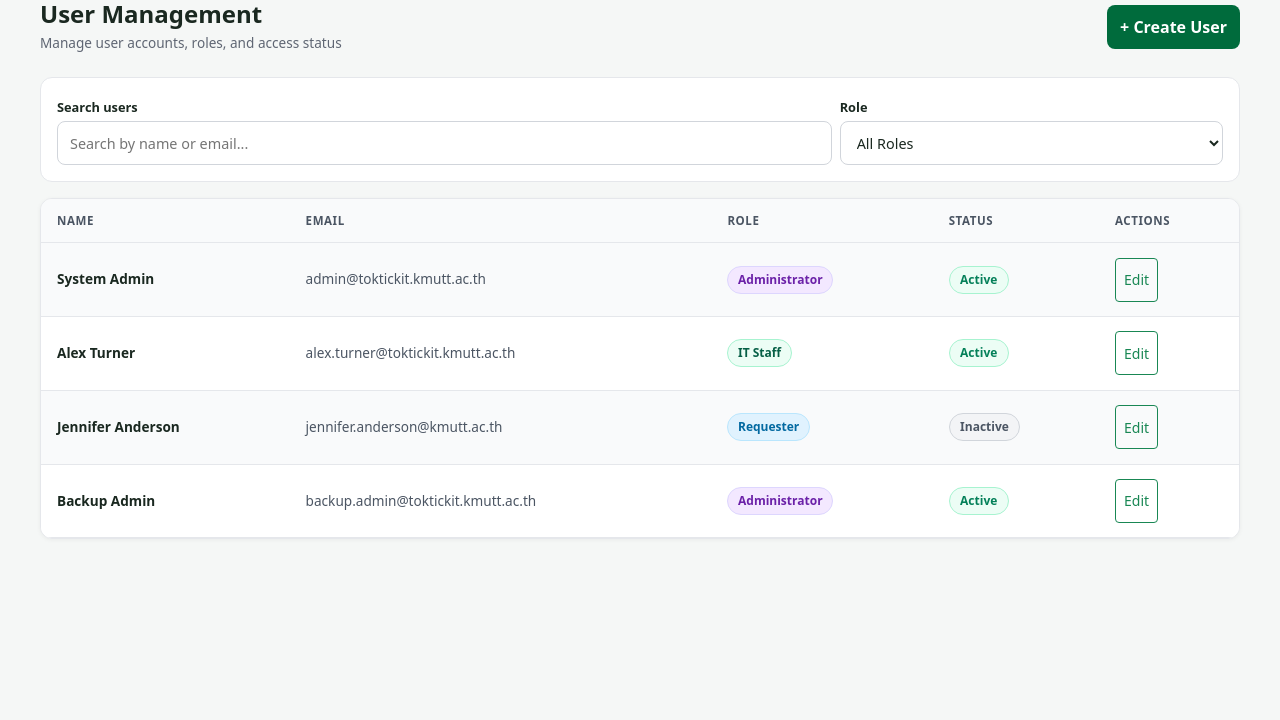
Scenario: UI-07: Administrator user management (FR-14, FR-15, AC-7.1, AC-7.4) › disables self-deactivation with a tooltip when another active Administrator exists
Expected: the text "System Admin" is shown, x1=57 y1=269 x2=154 y2=288
What coordinates should you click on to do the following:
click the button "Edit" in the row of "System Admin"
I would click on:
 (1137, 280)
Its box is x1=1115 y1=258 x2=1158 y2=302.
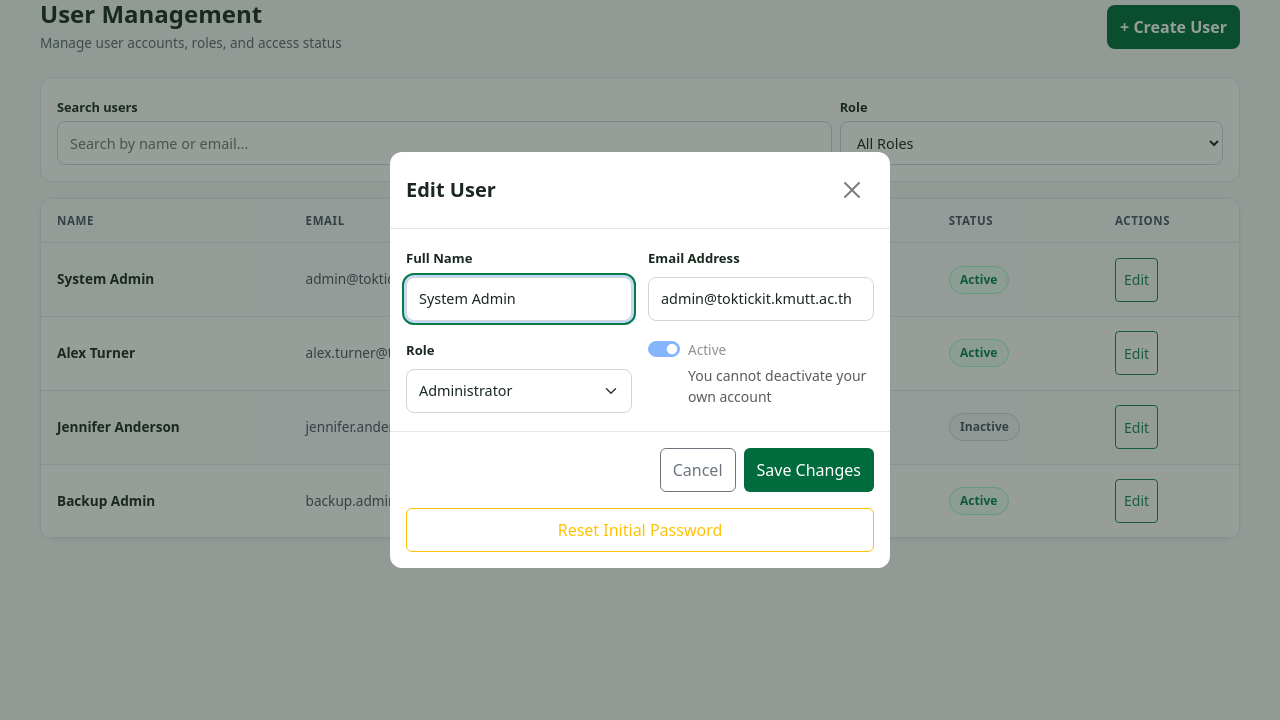
Expected: the switch with id "edit-user-active" is disabled, x1=648 y1=341 x2=680 y2=357
Expected: the dropdown with id "edit-user-role" is enabled, x1=406 y1=368 x2=632 y2=412
